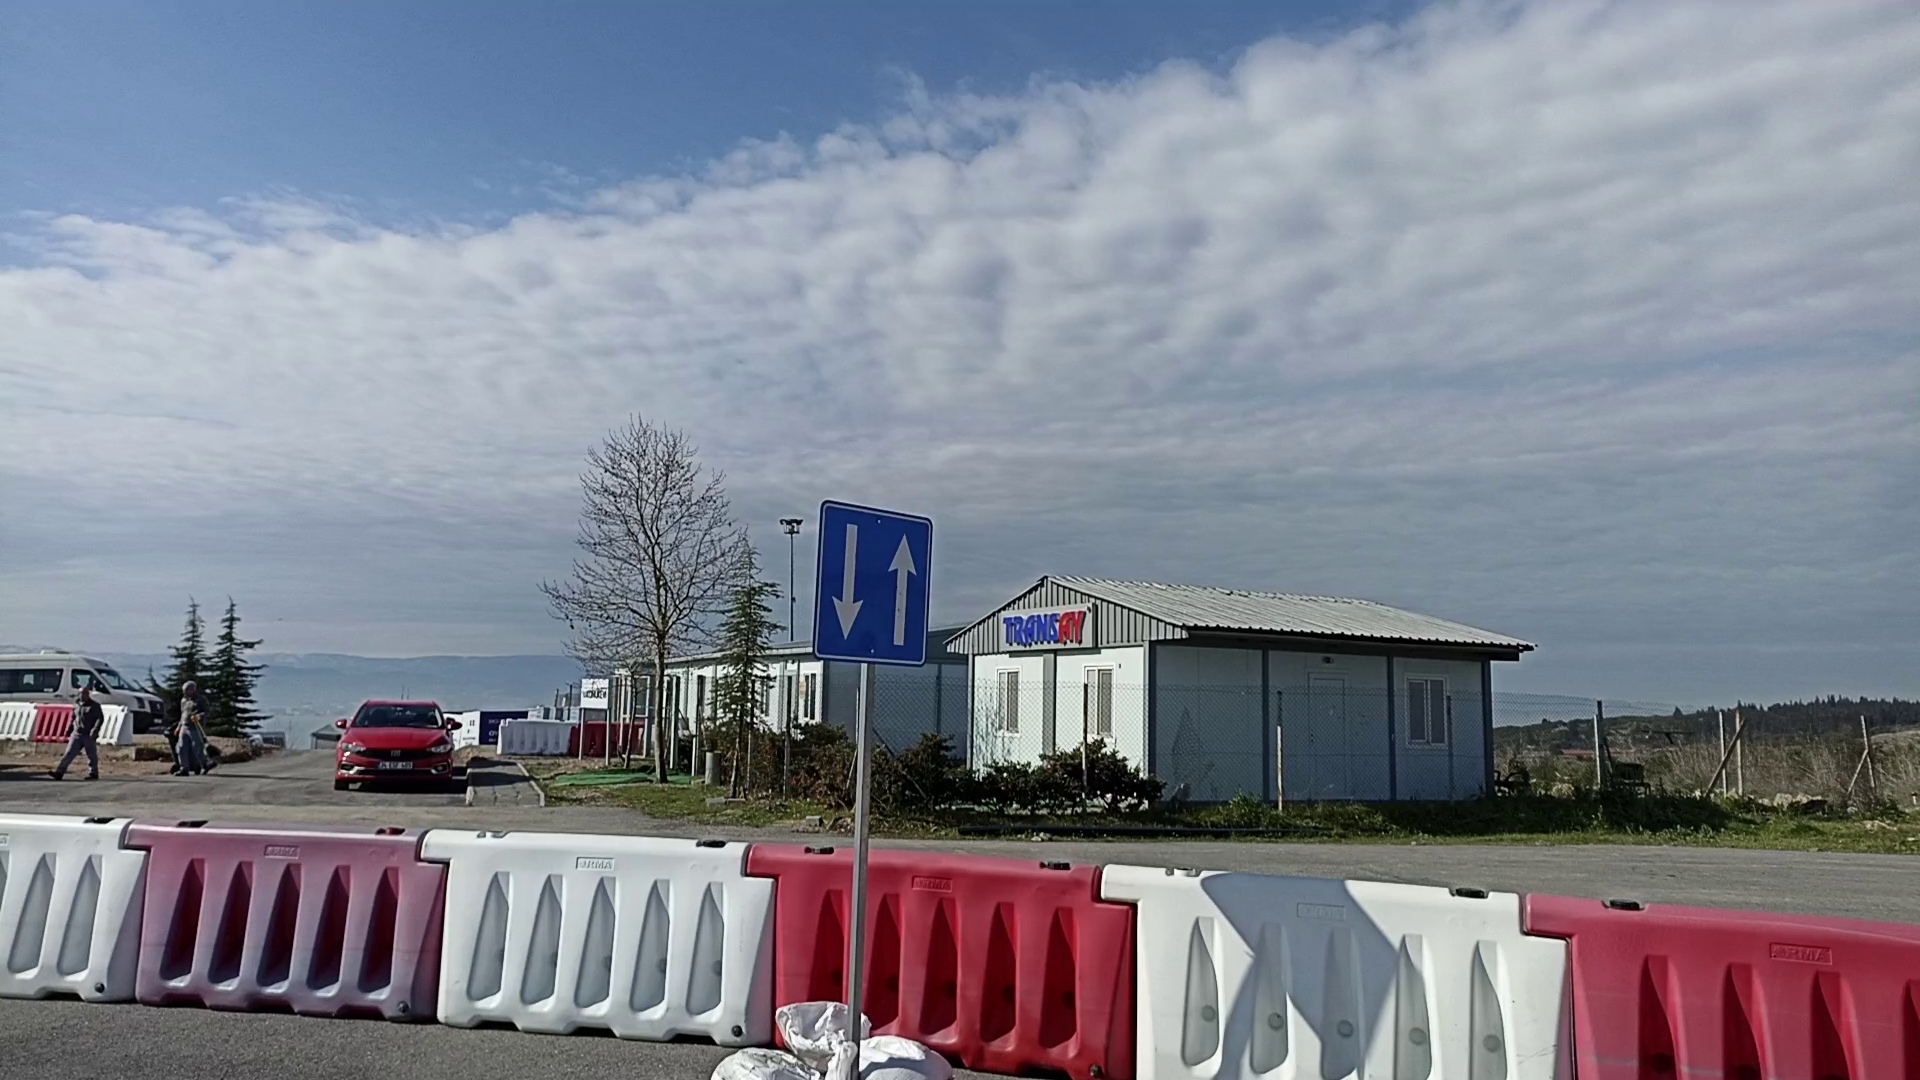oneway: (811, 496, 935, 670)
